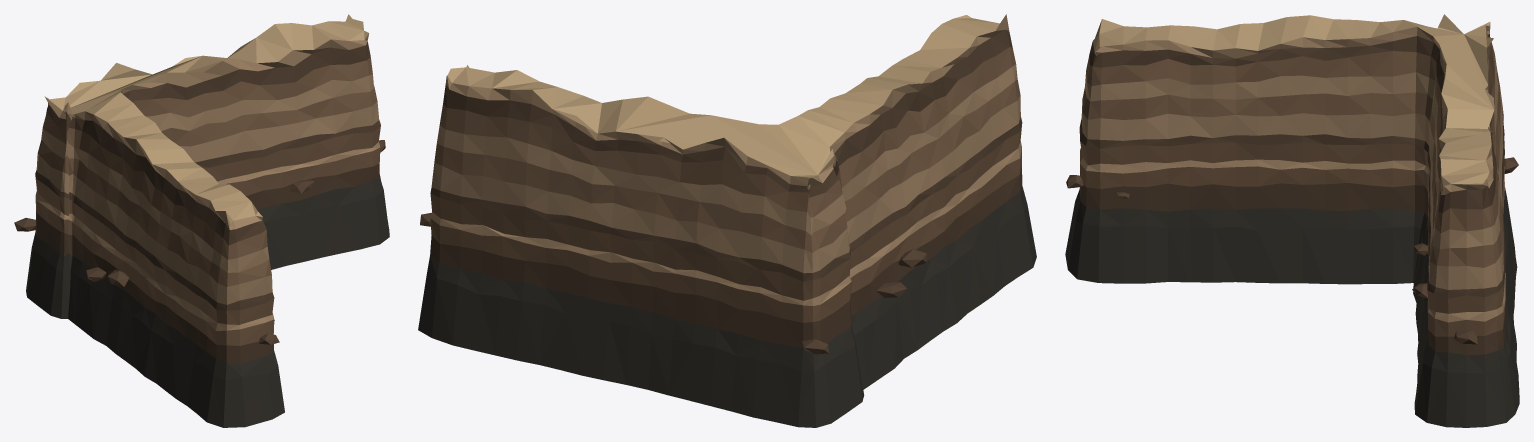
File: parede-l-espelhada.glb
3 renders of one model, left to right at view 1: azimuth 30°, elevation 25°; view 2: azimuth 150°, elevation 25°; view 3: azimuth 270°, elevation 25°, orthographic. The views are drawn at different scales.
Parts seen in each view (by area): view 1: parede-l-espelhada; view 2: parede-l-espelhada; view 3: parede-l-espelhada.
Boxes of the visible parts, x1,y1,x2,y2 form: parede-l-espelhada: (14,14,389,427); parede-l-espelhada: (418,14,1036,427); parede-l-espelhada: (1065,14,1519,427).
Size of the model in its own units: 278 by 162 by 273.
